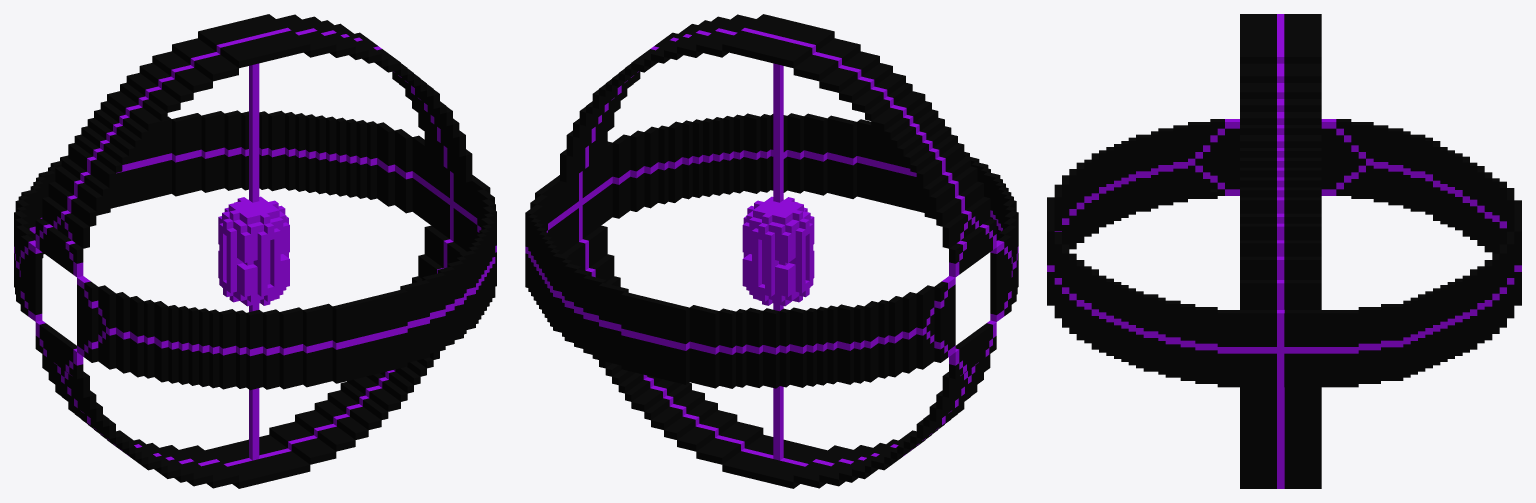
File: enemy.fbx
The picture shows the model from 3 angles, left to right: view 1: azimuth 30°, elevation 25°; view 2: azimuth 150°, elevation 25°; view 3: azimuth 270°, elevation 25°; orthographic projection.
Visible parts, largest first — view 1: ObjObject.002; view 2: ObjObject.002; view 3: ObjObject.002.
Boxes of the visible parts, box(x1,y1,x2,y2) form: ObjObject.002: box(14, 14, 496, 488); ObjObject.002: box(525, 14, 1018, 488); ObjObject.002: box(1047, 14, 1521, 488).
Bounding box in the file's own units: 620 × 630 × 640.
